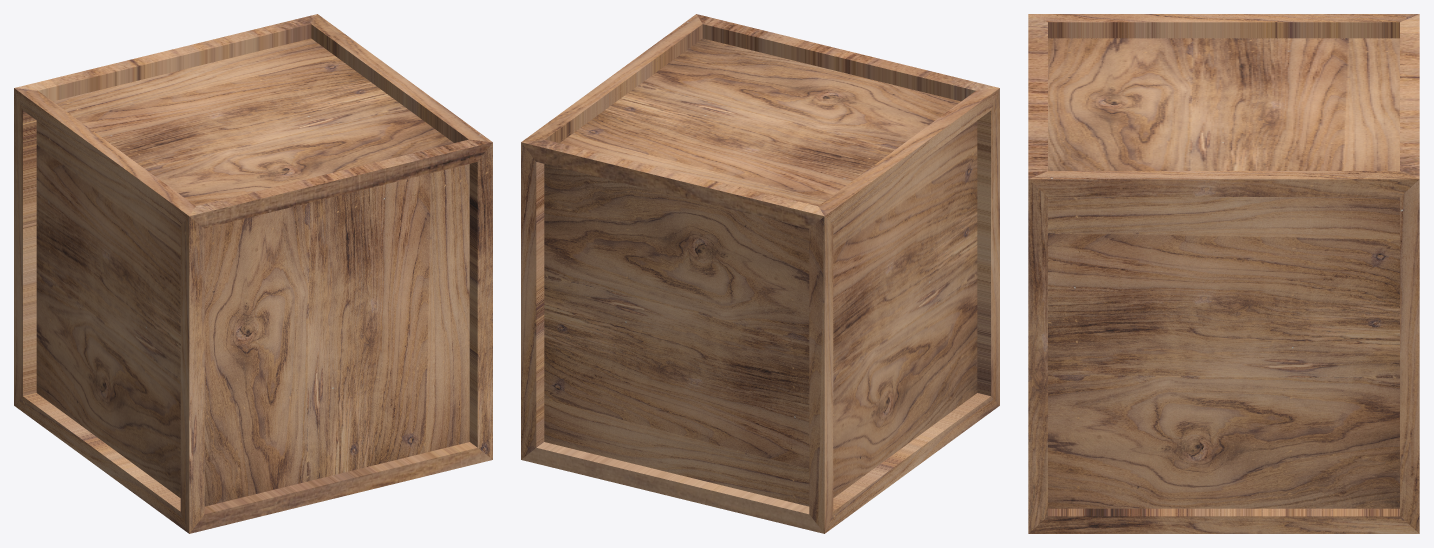
File: WoodenBox.fbx
3 renders of one model, left to right at view 1: azimuth 30°, elevation 25°; view 2: azimuth 150°, elevation 25°; view 3: azimuth 270°, elevation 25°, orthographic. The views are drawn at different scales.
Visible parts, largest first — view 1: Cube; view 2: Cube; view 3: Cube.
Part boxes in pixels (box(x1,y1,x2,y2)): Cube: box(14, 14, 492, 533); Cube: box(521, 14, 999, 533); Cube: box(1028, 14, 1419, 533).
Bounding box in the file's own units: 200 × 200 × 200.
